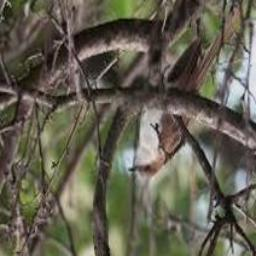Cuckoo: (129, 3, 246, 179)
